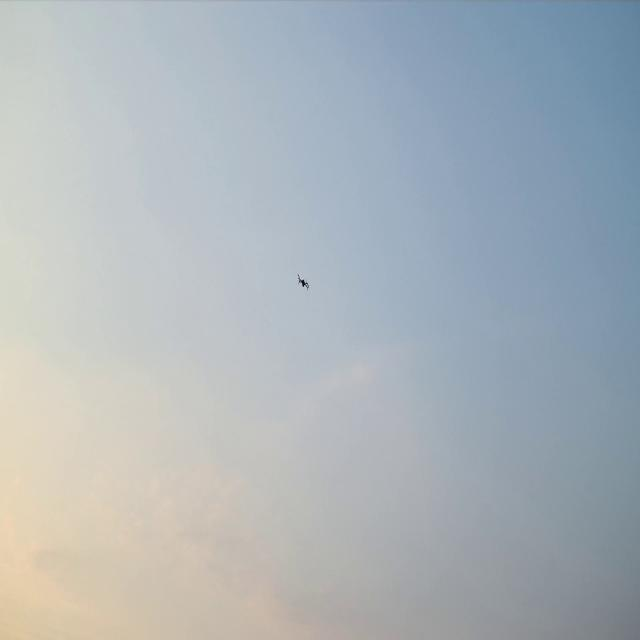UAV: (298, 275, 308, 289)
